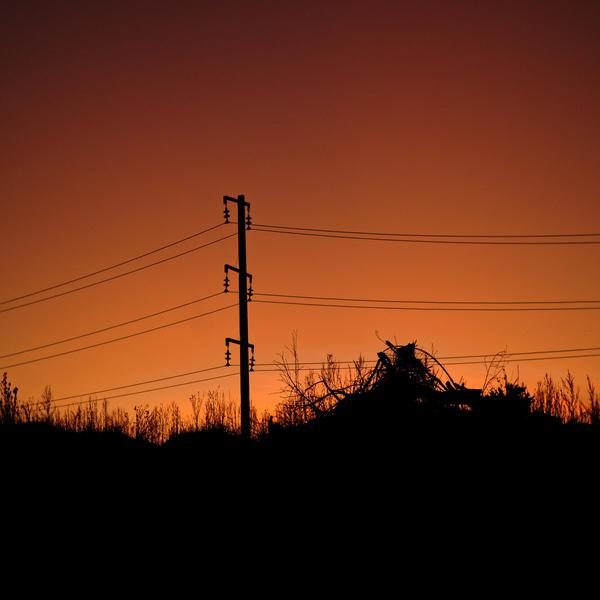utility_pole: (212, 180, 264, 377)
